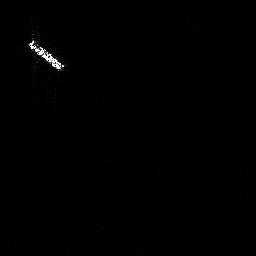ship: (28, 38, 66, 72)
